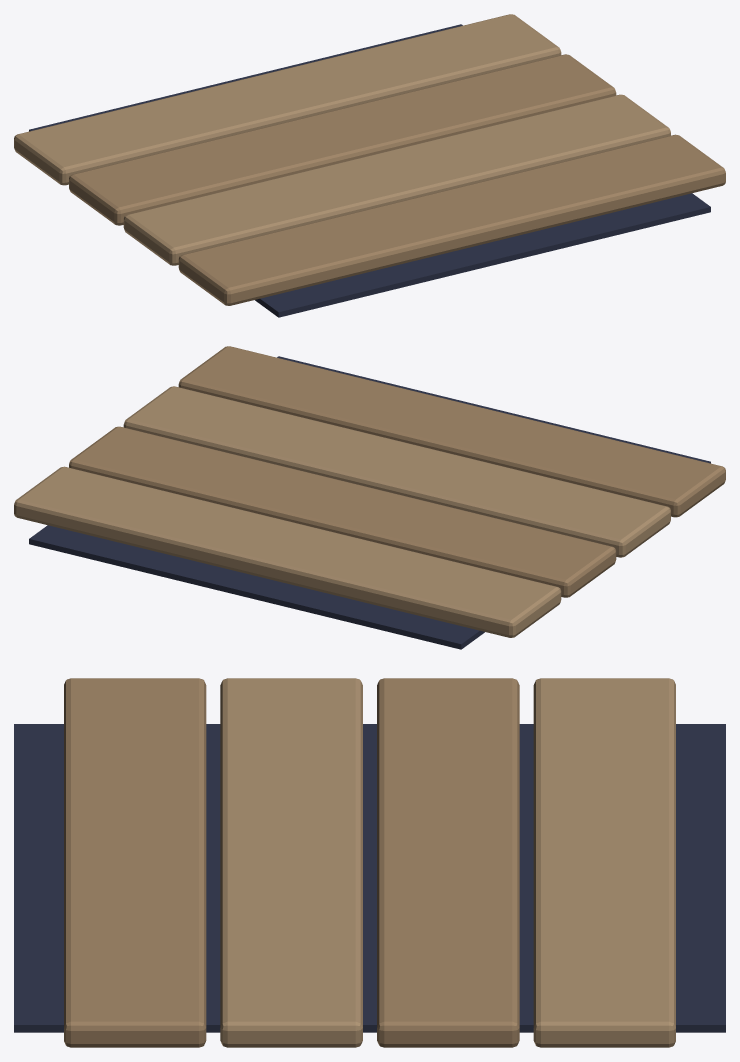
Rendered from bridge_plank.glb.
3 views of the same model, one above another, from view 1: azimuth 30°, elevation 25°; view 2: azimuth 150°, elevation 25°; view 3: azimuth 270°, elevation 25° (orthographic). The views are drawn at different scales.
Parts seen in each view (by area): view 1: bridge_plank; view 2: bridge_plank; view 3: bridge_plank.
Boxes of the visible parts, box(x1,y1,x2,y2) form: bridge_plank: box(14, 14, 725, 317); bridge_plank: box(14, 346, 725, 649); bridge_plank: box(14, 678, 725, 1047).
Size of the model in its own units: 1.16 by 0.05 by 1.
